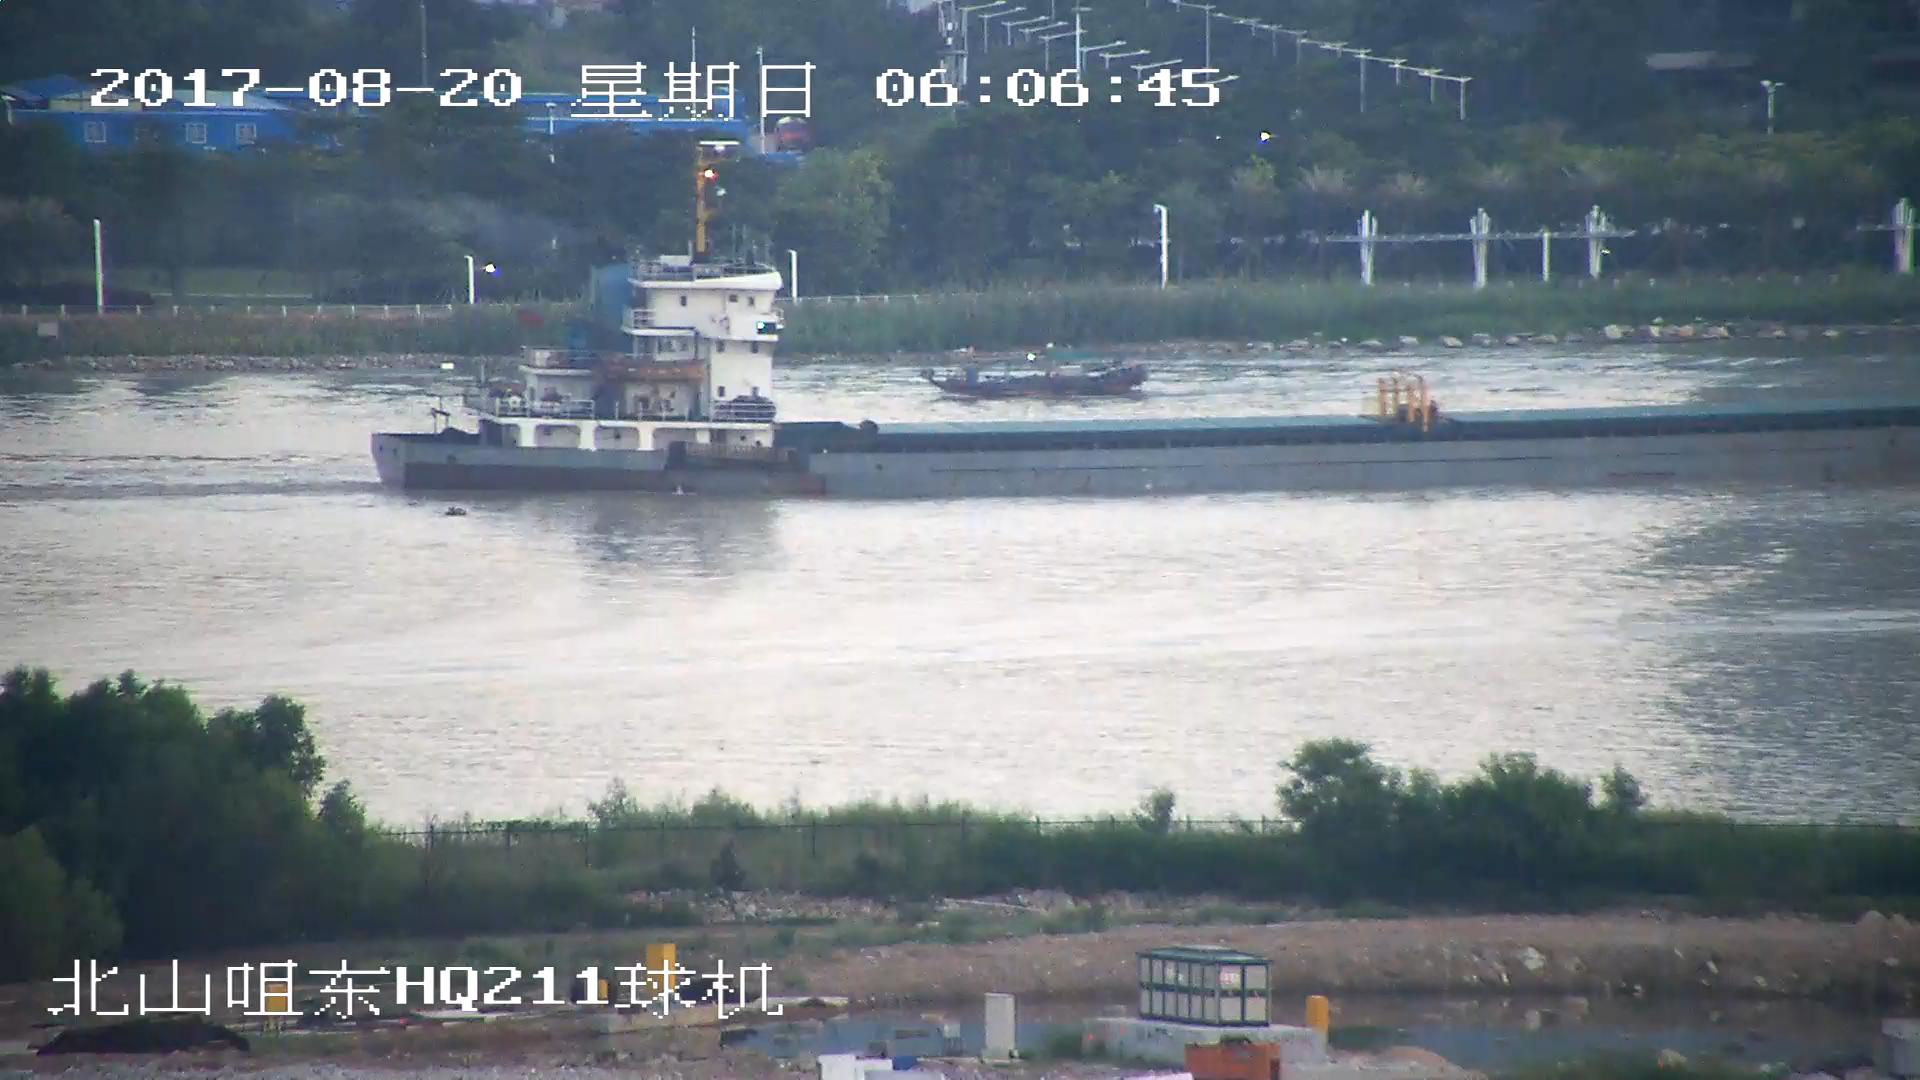fishing boat: (927, 358, 1151, 392)
general cargo ship: (373, 210, 1920, 497)
